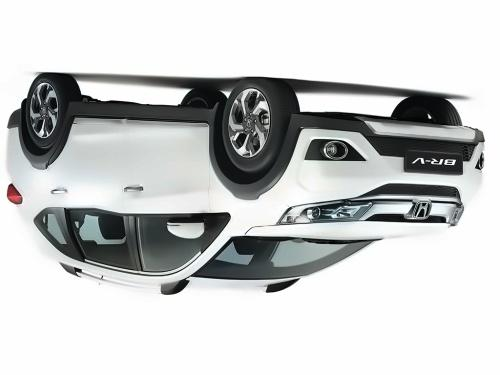Car hood: (244, 220, 454, 239)
Fender - -F-L-: (205, 133, 306, 232)
Fender - -R-L-: (18, 127, 89, 248)
Front bumper: (284, 114, 488, 197)
Headlight - -L-: (277, 198, 376, 225)
Passenger-s door - -F-L-: (125, 91, 232, 293)
Passenger-s door - -R-L-: (36, 99, 136, 294)
Rear bumper: (0, 108, 36, 167)
Rear light - -L-: (64, 94, 214, 168), (6, 183, 24, 205)
Side mirror - -L-: (162, 217, 211, 239)
